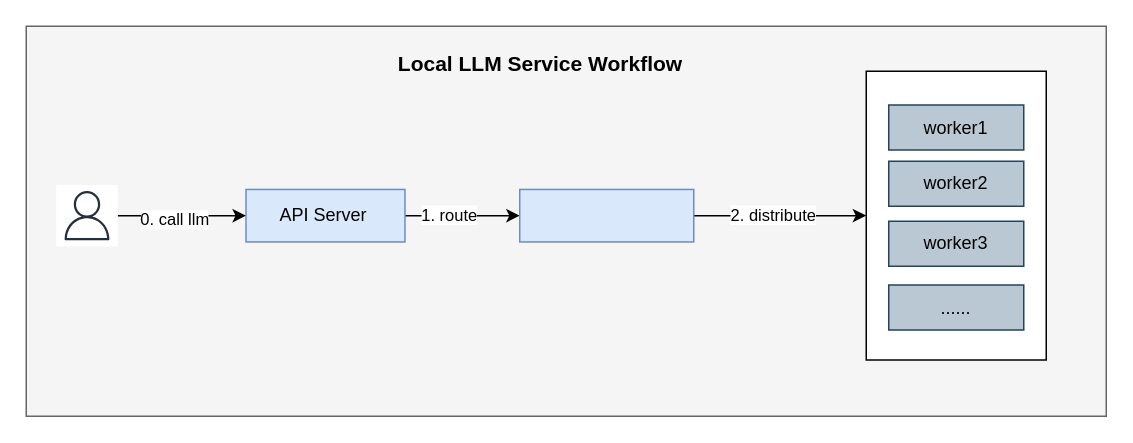
Some shapes in this 1133 by 443 pixel diagram are drawn without their labels. The shapes that lost their labels are listed below. From the top down, each one's centre as x and y in pixels, then its label:
At [86,214]: "User".
At [606,215]: "Controller".
